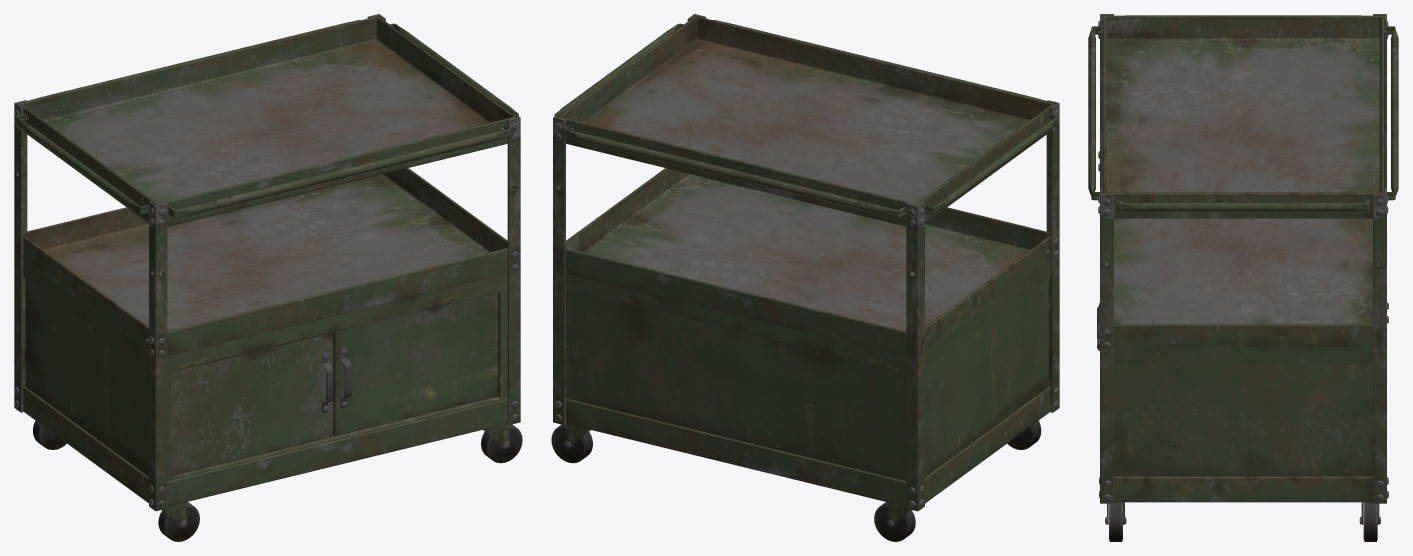
The model's file is industrial_storage_cart.gltf.
3 renders of one model, left to right at view 1: azimuth 30°, elevation 25°; view 2: azimuth 150°, elevation 25°; view 3: azimuth 270°, elevation 25°, orthographic.
Parts seen in each view (by area): view 1: industrial_storage_cart; view 2: industrial_storage_cart; view 3: industrial_storage_cart.
Boxes of the visible parts, left/top/right/bottom form: industrial_storage_cart: left=14, top=14, right=522, bottom=541; industrial_storage_cart: left=551, top=14, right=1059, bottom=541; industrial_storage_cart: left=1088, top=14, right=1398, bottom=541.
Size of the model in its own units: 1.6 by 1.38 by 1.1.
1 material, 1 textured.
